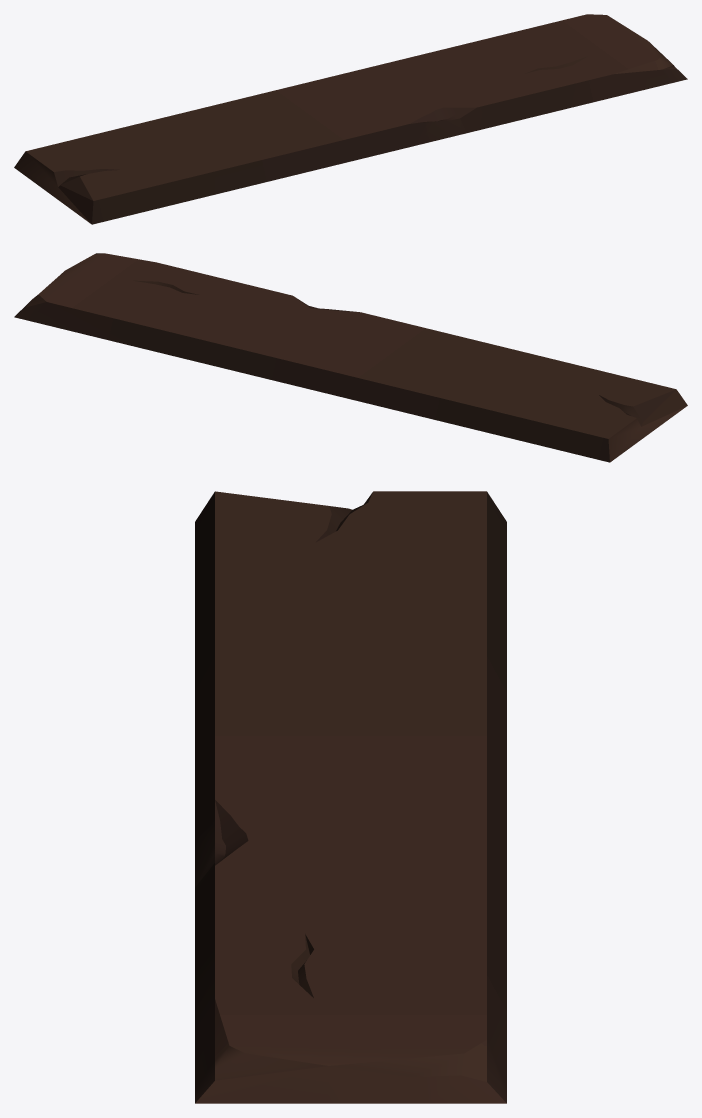
File: SM_Shelf02.fbx
3 views of the same model, one above another, from view 1: azimuth 30°, elevation 25°; view 2: azimuth 150°, elevation 25°; view 3: azimuth 270°, elevation 25° (orthographic). The views are drawn at different scales.
Parts seen in each view (by area): view 1: shelf_02; view 2: shelf_02; view 3: shelf_02.
Part boxes in pixels (bbox=[...]): shelf_02: bbox=[14, 14, 687, 224]; shelf_02: bbox=[14, 253, 687, 462]; shelf_02: bbox=[195, 491, 506, 1103].
Size of the model in its own units: 247 by 7.3 by 56.06.
